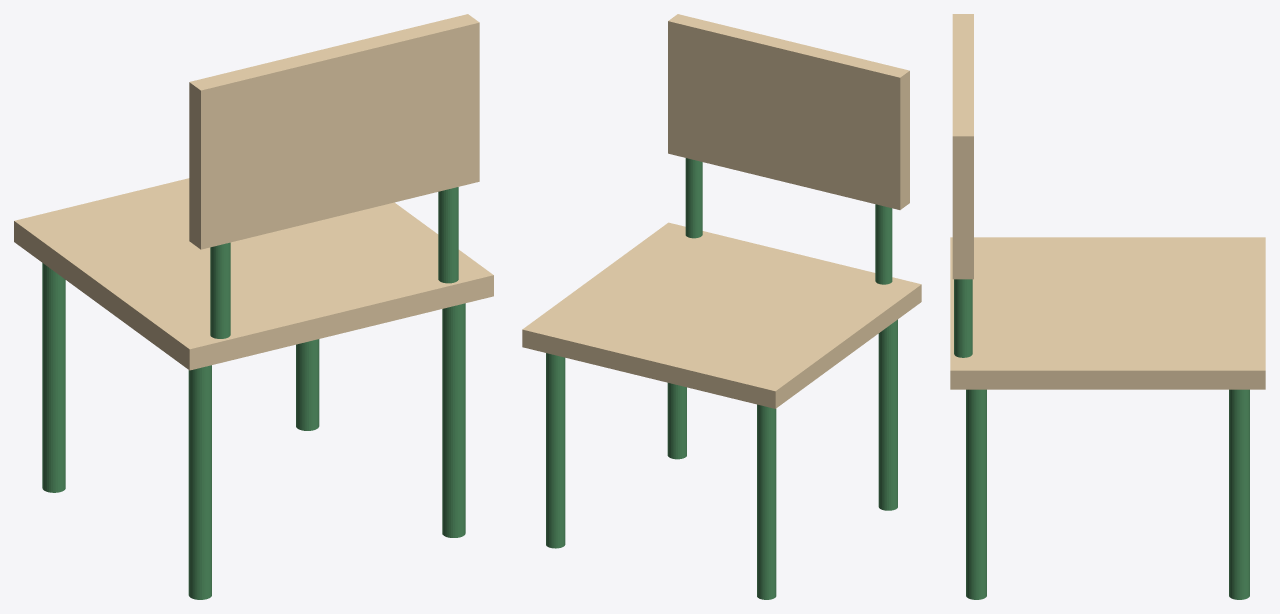
File: szkolne_krzeslo.fbx
3 renders of one model, left to right at view 1: azimuth 30°, elevation 25°; view 2: azimuth 150°, elevation 25°; view 3: azimuth 270°, elevation 25°, orthographic. The views are drawn at different scales.
Visible parts, largest first — view 1: Siedzisko; view 2: Siedzisko; view 3: Siedzisko.
Part boxes in pixels (box(x1,y1,x2,y2)): Siedzisko: box(14, 14, 493, 599); Siedzisko: box(522, 14, 921, 599); Siedzisko: box(950, 14, 1265, 599).
Bounding box in the file's own units: 1.2 × 1.95 × 1.2.
